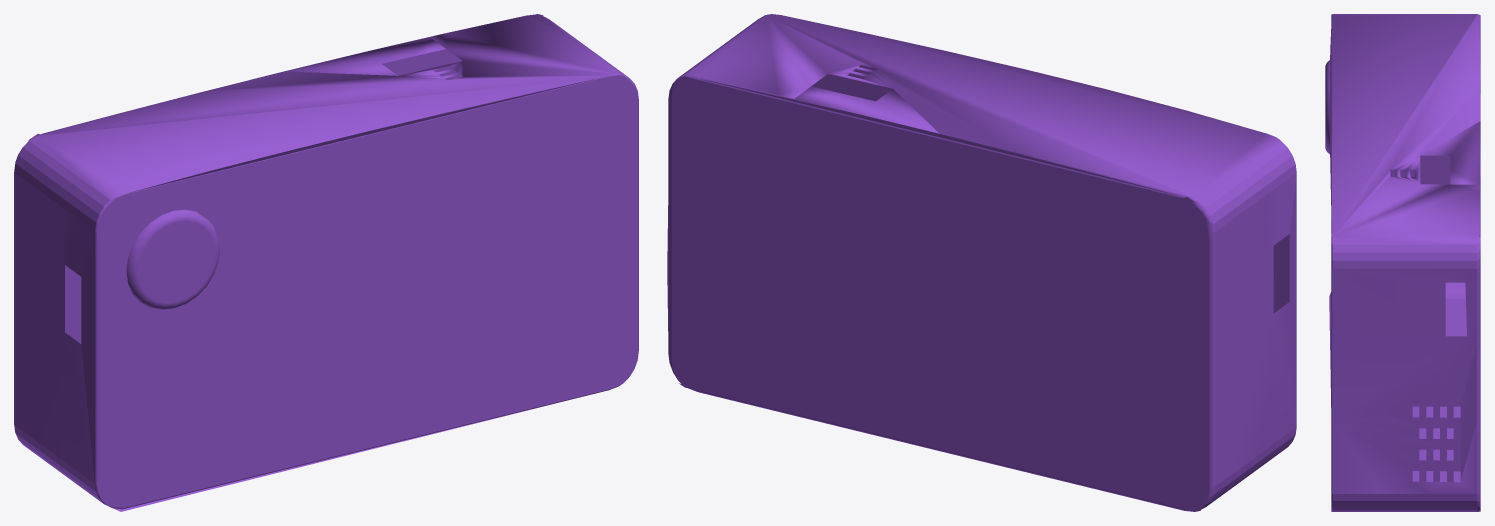
3 renders of one model, left to right at view 1: azimuth 30°, elevation 25°; view 2: azimuth 150°, elevation 25°; view 3: azimuth 270°, elevation 25°, orthographic. The views are drawn at different scales.
Parts seen in each view (by area): view 1: Untitled; view 2: Untitled; view 3: Untitled.
Part boxes in pixels (<box>): Untitled: <box>14,14,638,511</box>; Untitled: <box>667,14,1296,511</box>; Untitled: <box>1325,14,1480,511</box>.
Size of the model in its own units: 4.54 by 2.53 by 1.25.
